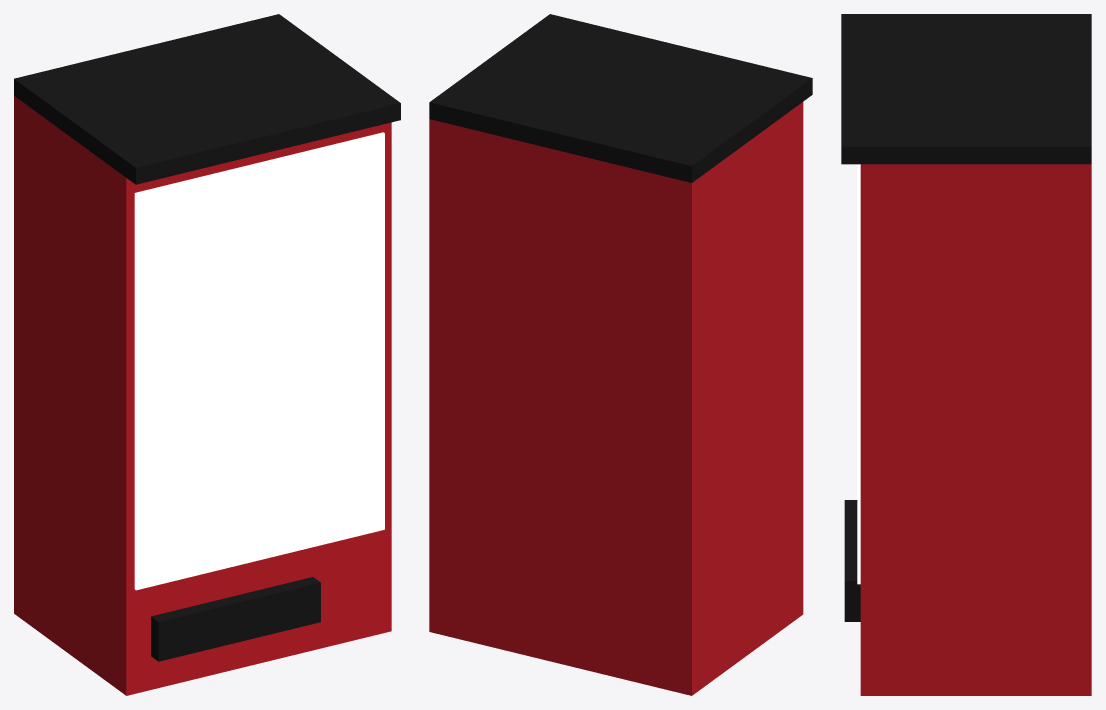
Rendered from vending_machine__red_hot.glb.
3 renders of one model, left to right at view 1: azimuth 30°, elevation 25°; view 2: azimuth 150°, elevation 25°; view 3: azimuth 270°, elevation 25°, orthographic. The views are drawn at different scales.
Visible parts, largest first — view 1: vending_machine; view 2: vending_machine; view 3: vending_machine.
Boxes of the visible parts, x1,y1,x2,y2 form: vending_machine: (14, 14, 400, 695); vending_machine: (429, 14, 812, 695); vending_machine: (841, 14, 1091, 695).
Bounding box in the file's own units: 0.98 × 1.89 × 0.78.
